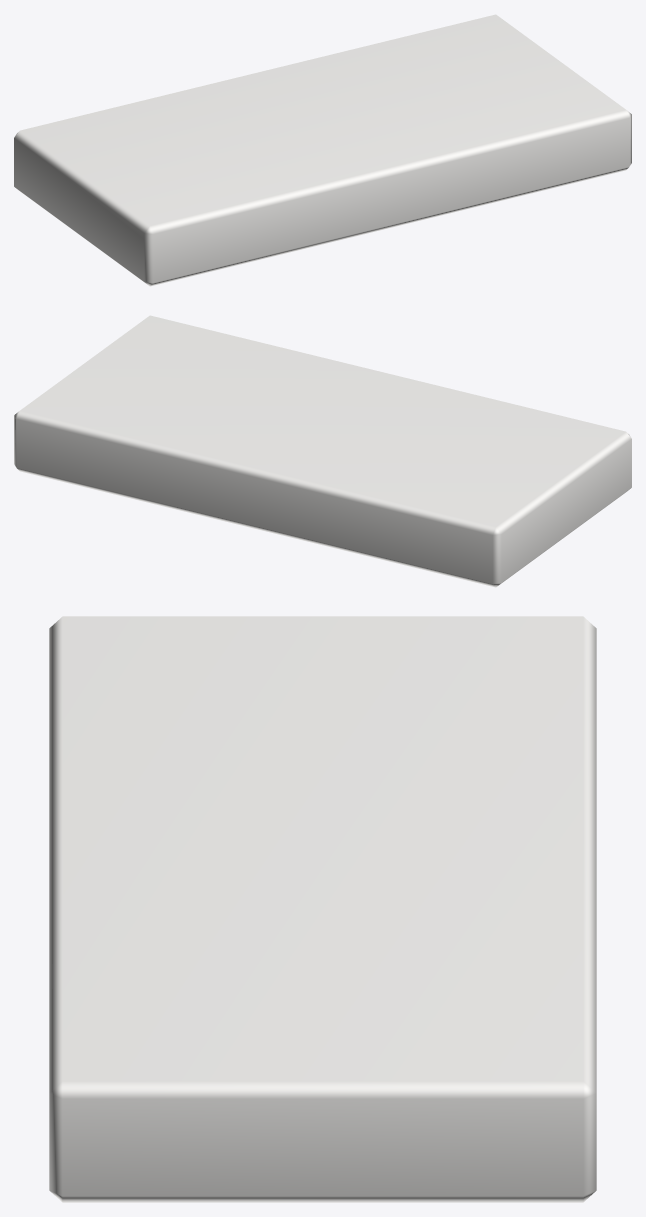
Rendered from Shelf_7.glb.
3 renders of one model, top to bottom at view 1: azimuth 30°, elevation 25°; view 2: azimuth 150°, elevation 25°; view 3: azimuth 270°, elevation 25°, orthographic. The views are drawn at different scales.
Visible parts, largest first — view 1: Shelf_7; view 2: Shelf_7; view 3: Shelf_7.
Part boxes in pixels (x1,y1,x2,y2): Shelf_7: (14, 14, 631, 286); Shelf_7: (14, 315, 631, 587); Shelf_7: (49, 616, 596, 1202).
Bounding box in the file's own units: 1.96 × 0.2325 × 0.9507.
Materials: 1 (1 with a texture image).
